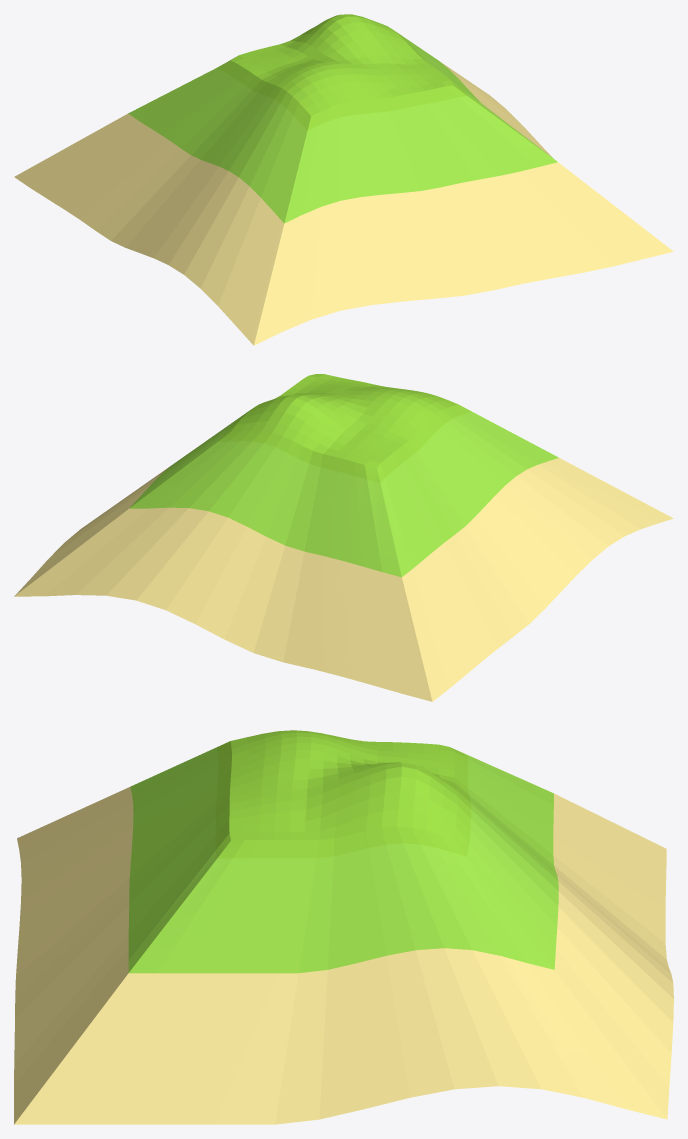
Rendered from Islas2.fbx.
3 renders of one model, top to bottom at view 1: azimuth 30°, elevation 25°; view 2: azimuth 150°, elevation 25°; view 3: azimuth 270°, elevation 25°, orthographic. The views are drawn at different scales.
Visible parts, largest first — view 1: Isla2; view 2: Isla2; view 3: Isla2.
Part boxes in pixels (box(x1,y1,x2,y2)): Isla2: box(14, 14, 673, 345); Isla2: box(14, 374, 673, 701); Isla2: box(14, 730, 673, 1124).
Bounding box in the file's own units: 3325 × 1319 × 3339.
